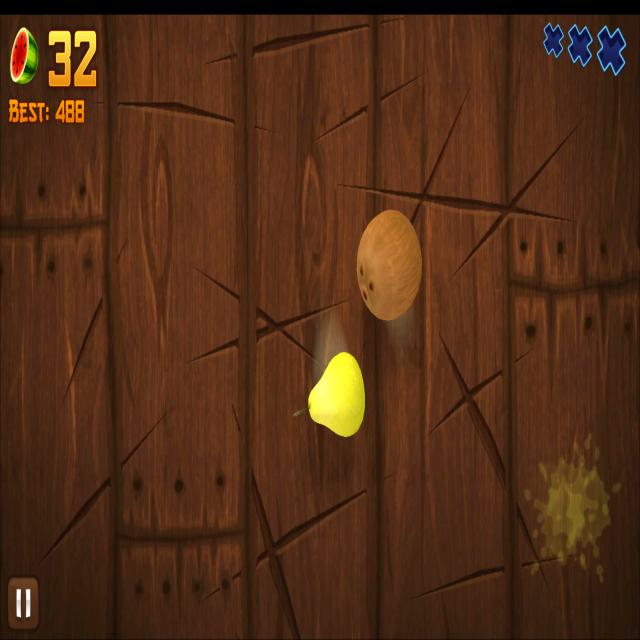fruit: (356, 206, 423, 324), (306, 349, 366, 438)
